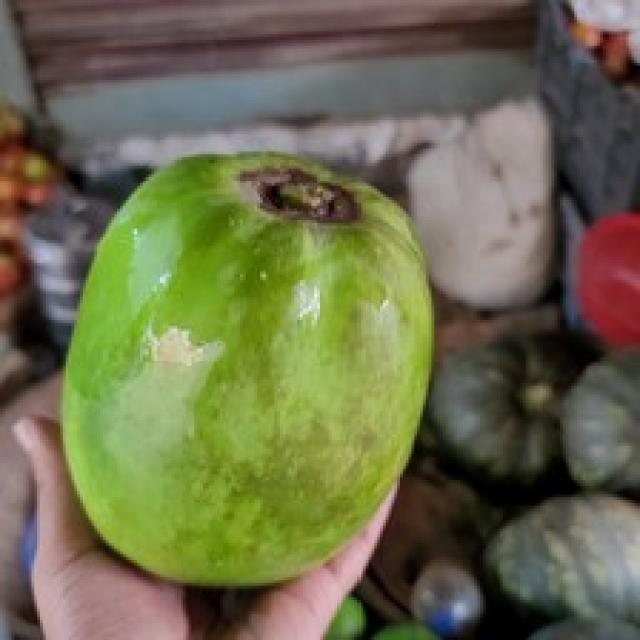organik: (62, 158, 429, 586)
